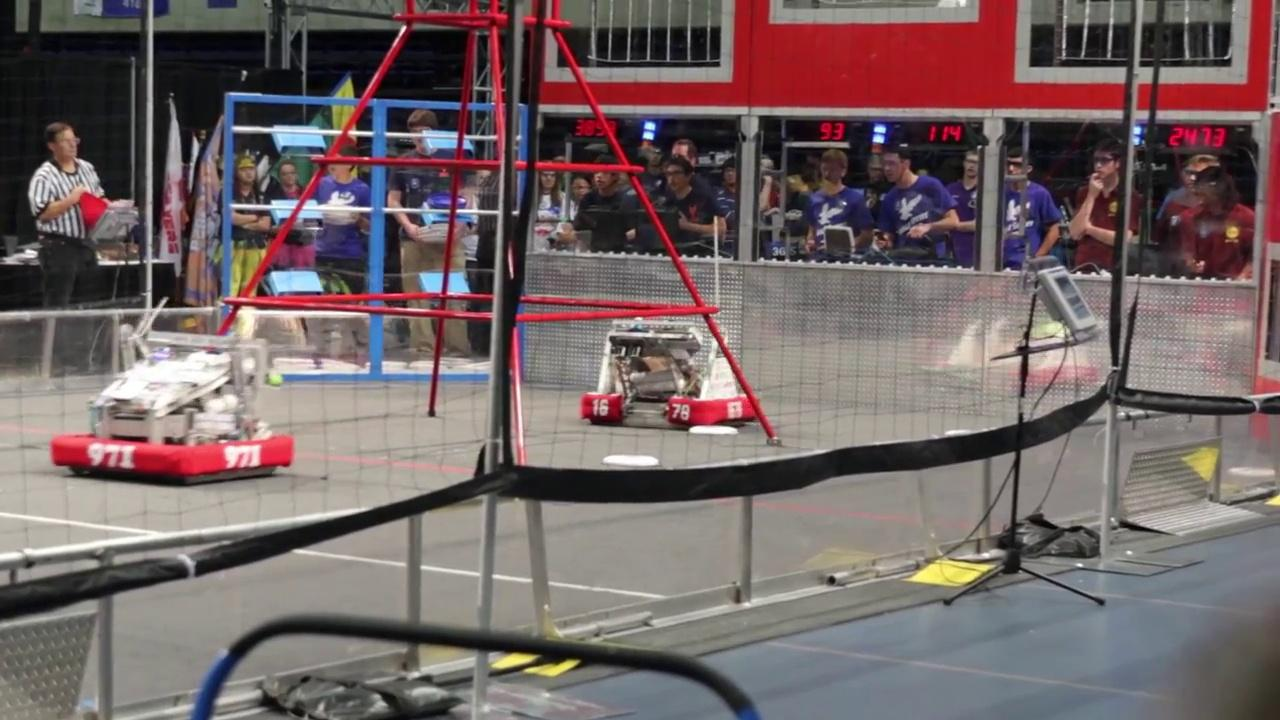robot: (47, 315, 303, 488), (577, 314, 765, 429)
